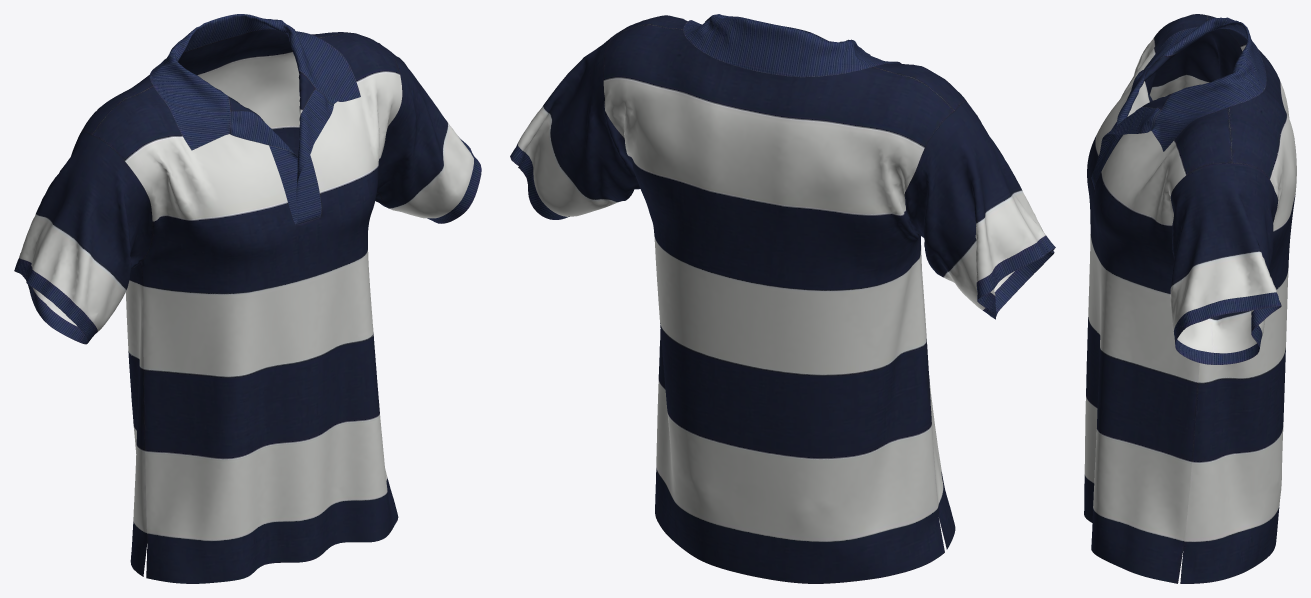
Rendered from polo-rayas.glb.
3 views of the same model, side by side, from view 1: azimuth 30°, elevation 25°; view 2: azimuth 150°, elevation 25°; view 3: azimuth 270°, elevation 25° (orthographic). The views are drawn at different scales.
Parts seen in each view (by area): view 1: AM_102_035_003_AM_102_035_002_0; view 2: AM_102_035_003_AM_102_035_002_0; view 3: AM_102_035_003_AM_102_035_002_0.
Boxes of the visible parts, left/top/right/bottom form: AM_102_035_003_AM_102_035_002_0: left=14, top=14, right=481, bottom=583; AM_102_035_003_AM_102_035_002_0: left=510, top=14, right=1055, bottom=583; AM_102_035_003_AM_102_035_002_0: left=1084, top=14, right=1296, bottom=583.
Bounding box in the file's own units: 0.6654 × 0.7 × 0.2715.
Materials: 1 (1 with a texture image).
